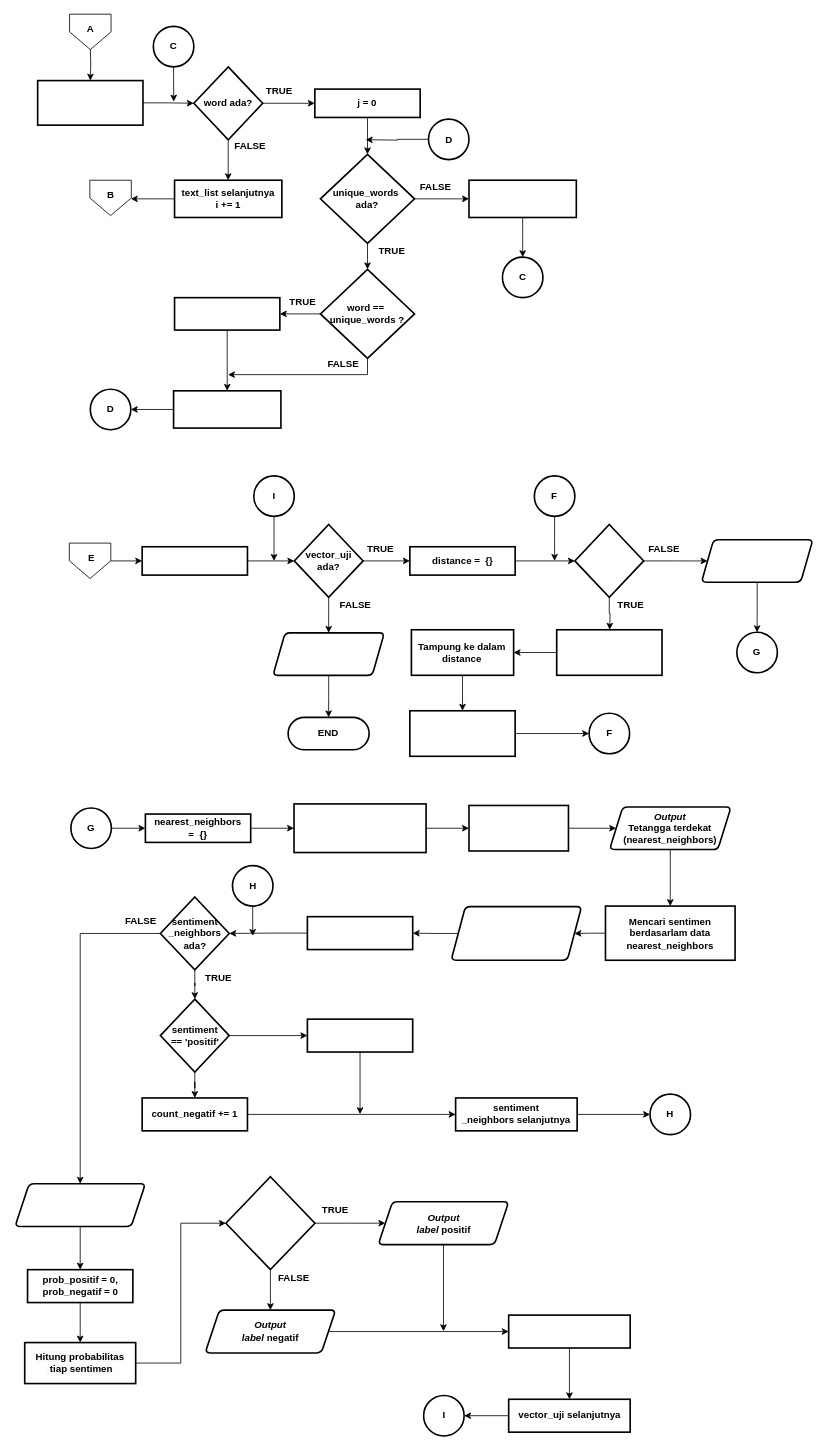
This 827x1451 diagram has some shape labels left out. Here are the shapes that lost their labels. From the top down, the box of each, then its label:
(36, 79, 143, 126): Pecah menjadi satuan kata (word)
(468, 179, 577, 218): word selanjutnya
(173, 296, 280, 330): vector_uji [i][j] += 1
(172, 390, 281, 428): unique_words selanjutnya j += 1
(141, 546, 248, 576): data_hasil = {}
(574, 523, 644, 598): vector_latih ada?
(700, 538, 813, 583): Output Jarak tetangga (distance)
(272, 632, 385, 676): Output Prediksi label data uji
(555, 629, 662, 676): Hitung jarak menggunakan euclidean distance
(409, 710, 516, 757): vector_latih selanjutnya
(293, 803, 426, 853): Urutkan distance berdasarkan nilai terkecil hingga terbesar ( ascending )
(468, 804, 569, 851): Mengambil data dengan index < K
(306, 915, 413, 950): count_positif = 0, count_negatif = 0
(450, 905, 582, 961): Output Sentimen tetangga terdekat (sentiment_neighbors)
(306, 1018, 413, 1052): count_positif += 1
(14, 1183, 146, 1227): Output jumlah tiap sentimen
(225, 1176, 315, 1270): prob_positif > prob_negatif
(507, 1314, 631, 1348): Tampng ke dalam data_hasil
